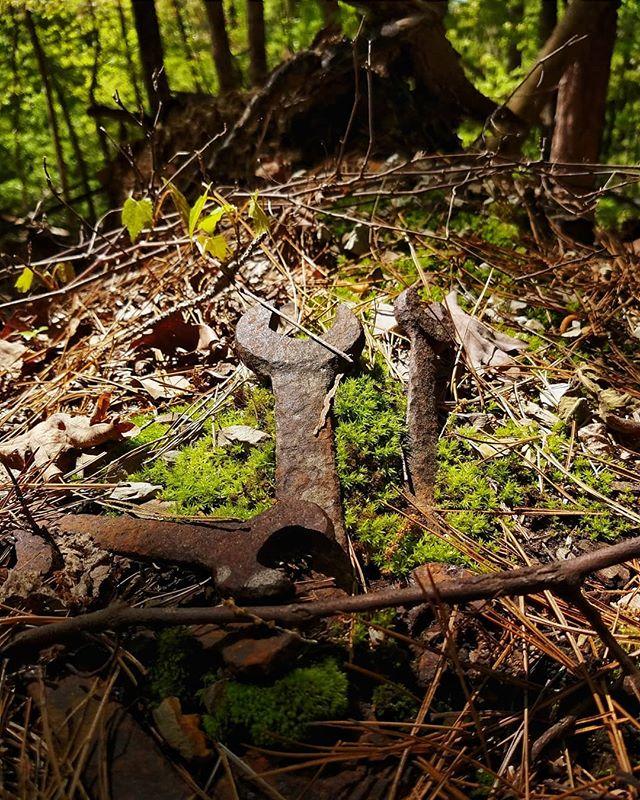trash: (116, 264, 544, 649)
vegetation: (1, 1, 634, 788)
